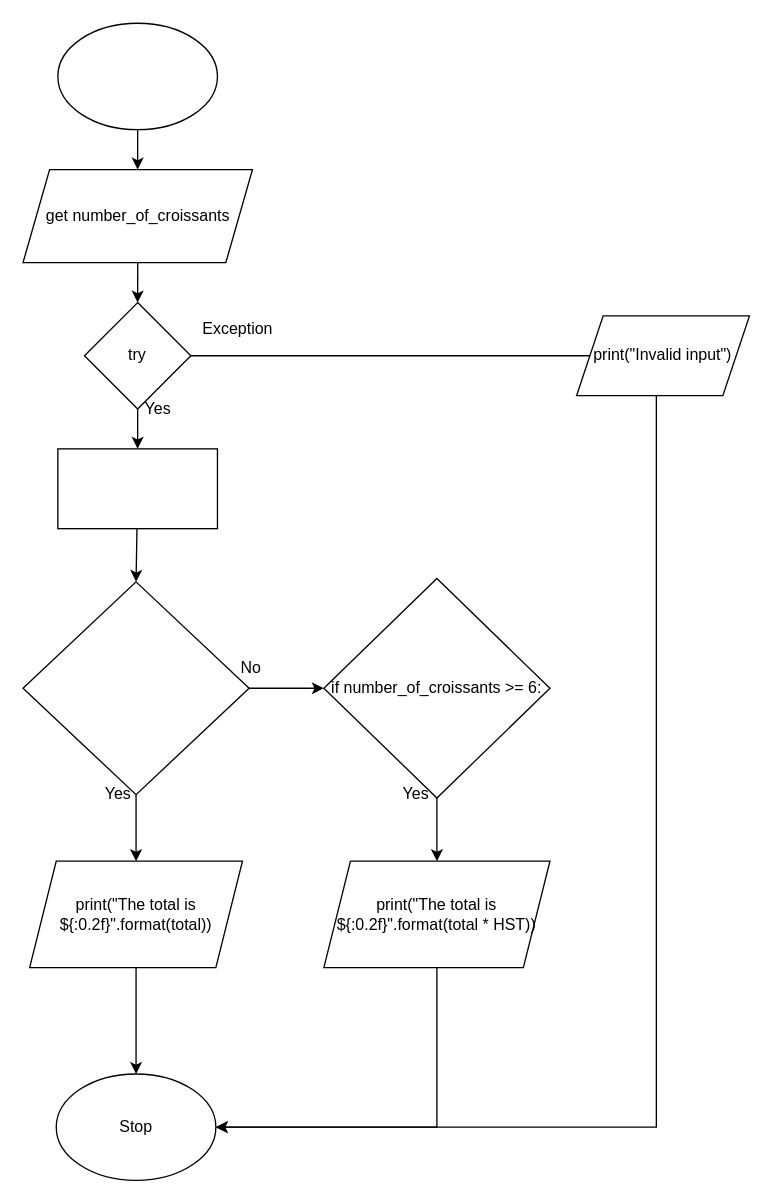
Image size: 774x1204. Some labels were removed from this diagram. Here are the shapes that lost their labels. From the top down, the box of each, then its label:
(57, 22, 217, 130): Start
(57, 448, 217, 529): convert string to int
(22, 581, 249, 795): if number_of_croissants < 6:
